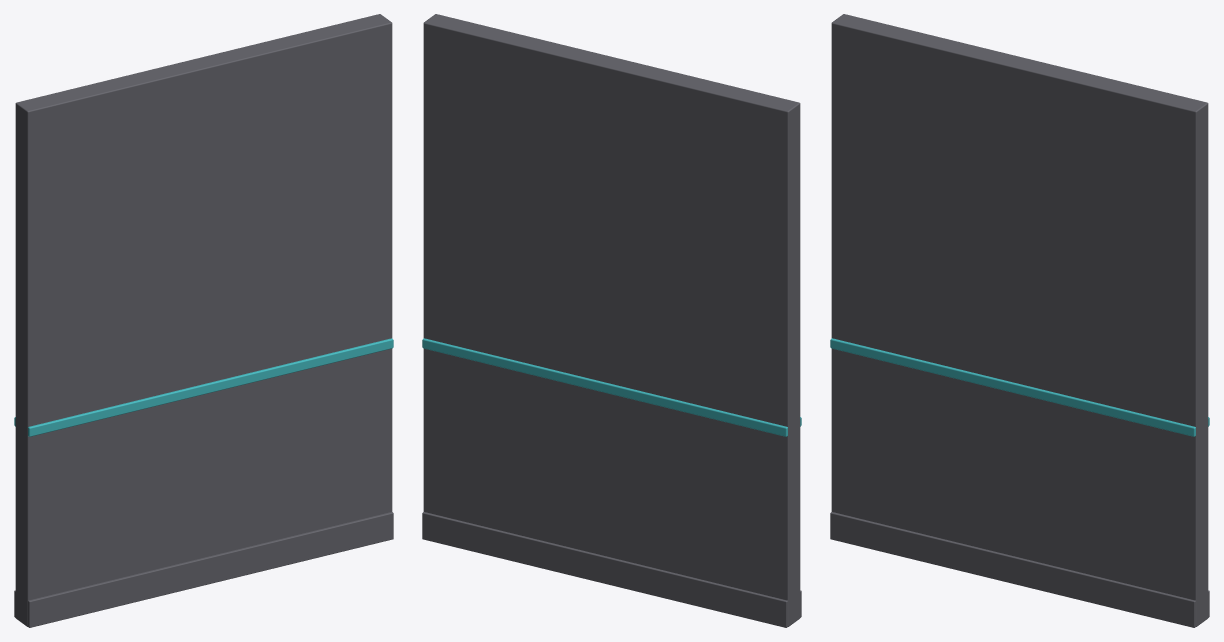
Rendered from tattoo-and-piercing-studio-studio-wall-module-dark-79d4b714__34559.glb.
3 renders of one model, left to right at view 1: azimuth 30°, elevation 25°; view 2: azimuth 150°, elevation 25°; view 3: azimuth 330°, elevation 25°, orthographic.
Visible parts, largest first — view 1: studio-wall-module-dark; view 2: studio-wall-module-dark; view 3: studio-wall-module-dark.
Part boxes in pixels (x1=…): studio-wall-module-dark: x1=14, y1=14, x2=393, y2=627; studio-wall-module-dark: x1=422, y1=14, x2=801, y2=627; studio-wall-module-dark: x1=830, y1=14, x2=1209, y2=627.
Size of the model in its own units: 2 by 2.7 by 0.146.
